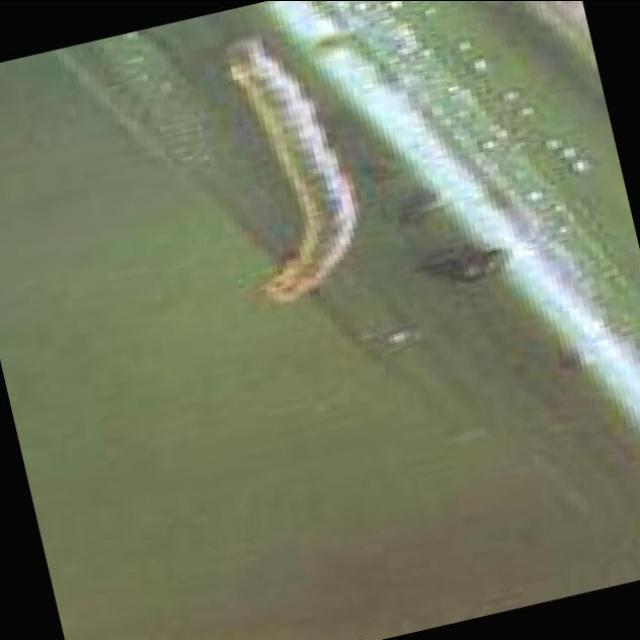leaf folder: (228, 37, 357, 304)
